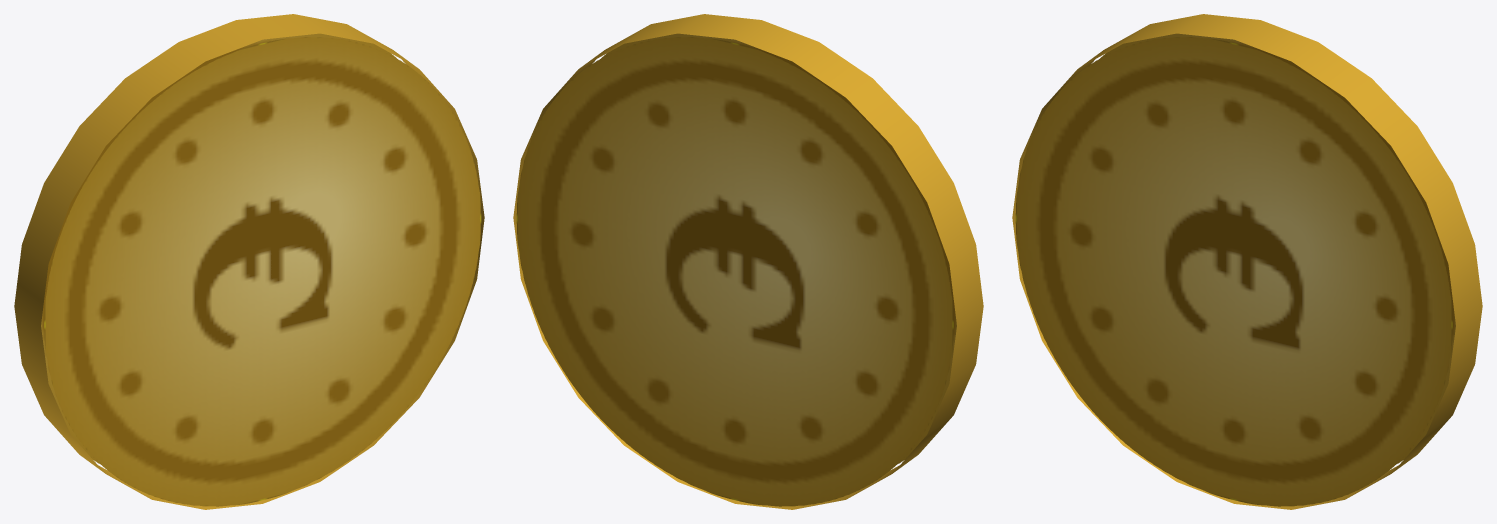
File: coin.obj
The picture shows the model from 3 angles, left to right: view 1: azimuth 30°, elevation 25°; view 2: azimuth 150°, elevation 25°; view 3: azimuth 330°, elevation 25°; orthographic projection.
Parts seen in each view (by area): view 1: part1; view 2: part1; view 3: part1.
Part boxes in pixels (x1=…): part1: x1=14, y1=14, x2=484, y2=509; part1: x1=513, y1=14, x2=983, y2=509; part1: x1=1012, y1=14, x2=1482, y2=509.
Bounding box in the file's own units: 0.48 × 0.48 × 0.05.
2 materials, 1 textured.
